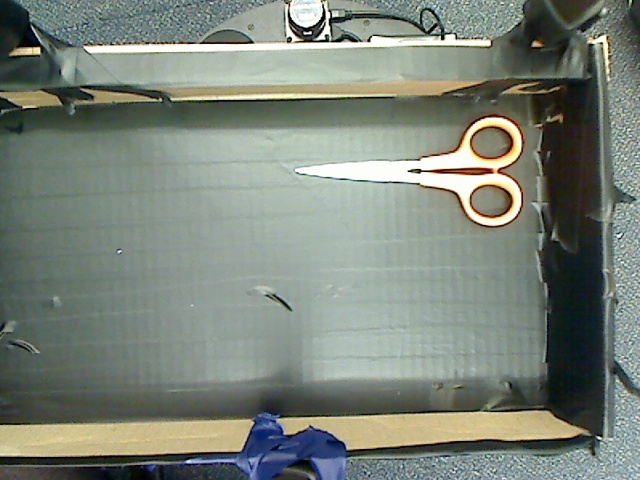scissors: (289, 107, 542, 232)
